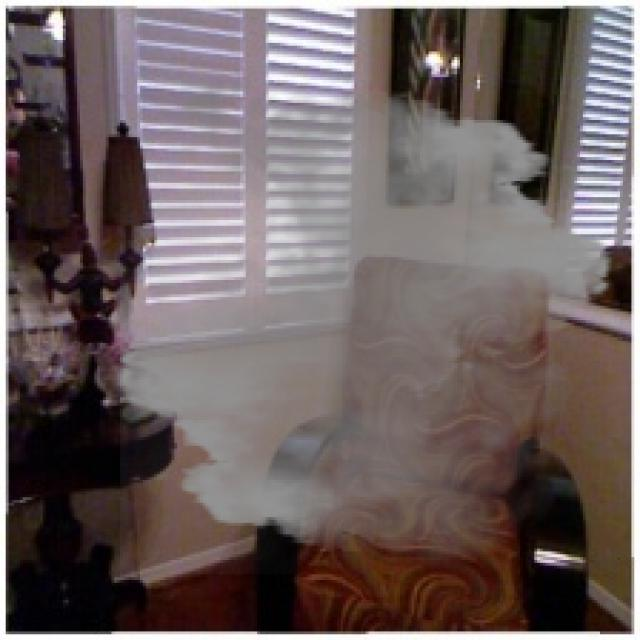smoke: (100, 57, 629, 574)
